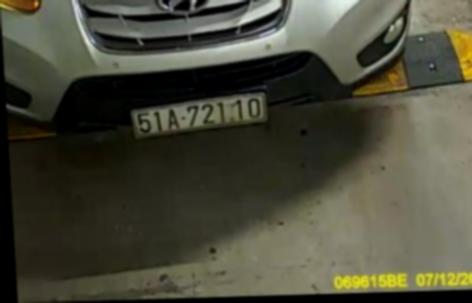License_Plate: (121, 91, 283, 141)
